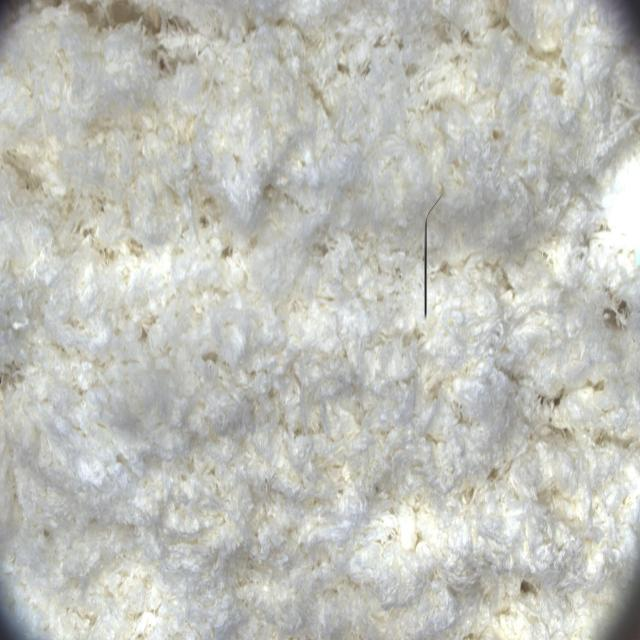dust: (403, 179, 453, 336)
